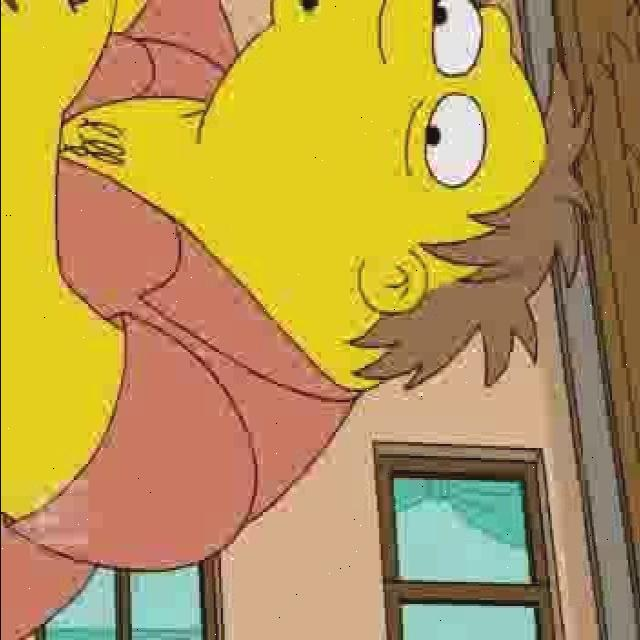Barney Gumble: (199, 1, 597, 399)
